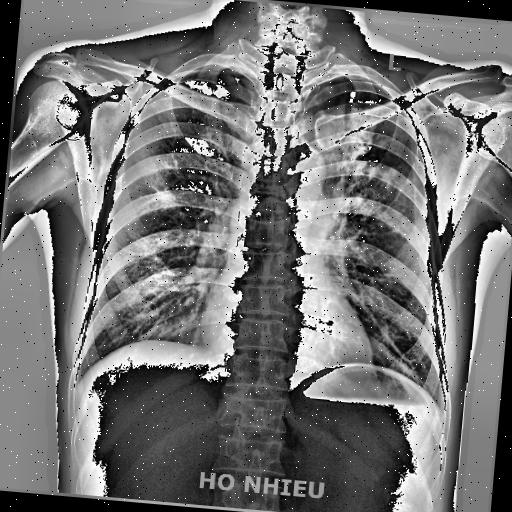13- Pulmonary fibrosis: (322, 130, 426, 232)
6- Infiltration: (324, 111, 430, 234), (344, 142, 408, 236)
